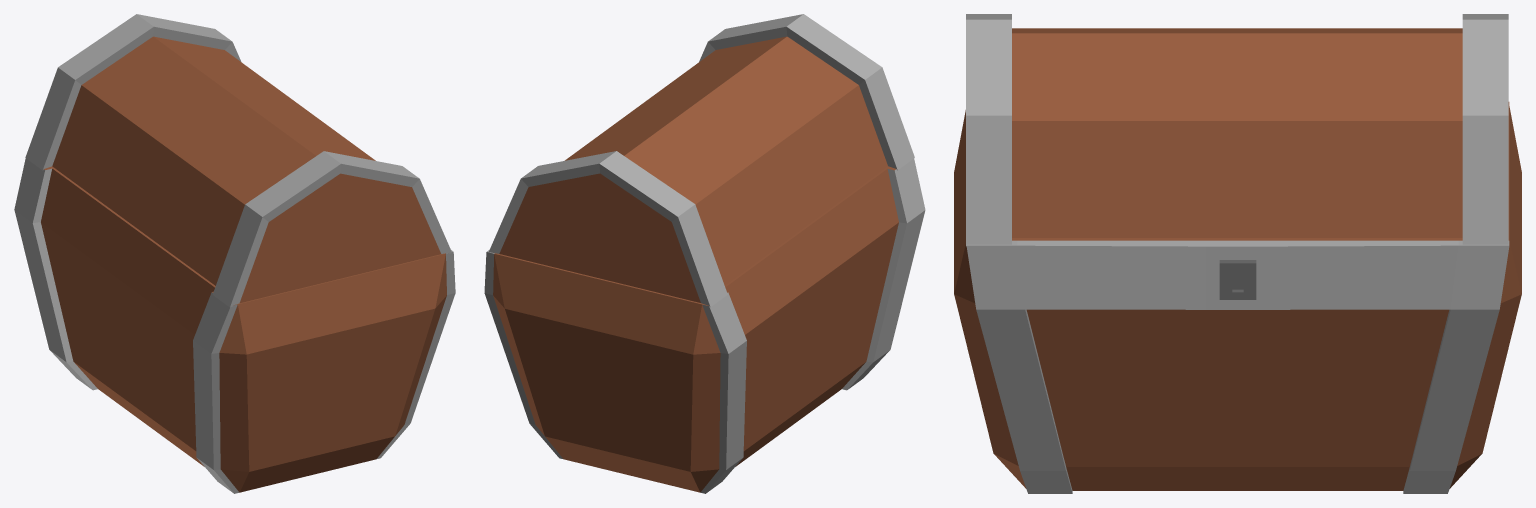
Rendered from Chest.glb.
3 renders of one model, left to right at view 1: azimuth 30°, elevation 25°; view 2: azimuth 150°, elevation 25°; view 3: azimuth 270°, elevation 25°, orthographic. The views are drawn at different scales.
Visible parts, largest first — view 1: ChestBottom, ChestTop; view 2: ChestBottom, ChestTop; view 3: ChestBottom, ChestTop.
Boxes of the visible parts, left/top/right/bottom form: ChestBottom: left=14, top=158, right=455, bottom=493; ChestTop: left=25, top=14, right=451, bottom=307; ChestBottom: left=484, top=158, right=925, bottom=493; ChestTop: left=489, top=14, right=914, bottom=307; ChestBottom: left=954, top=102, right=1521, bottom=493; ChestTop: left=966, top=14, right=1508, bottom=246.
Size of the model in its own units: 0.7475 by 0.9443 by 1.12.
